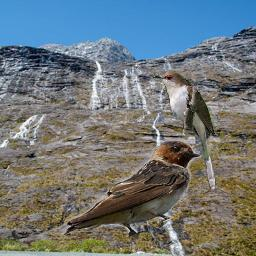Cuckoo: (151, 70, 216, 191)
Swallow: (59, 138, 201, 241)
